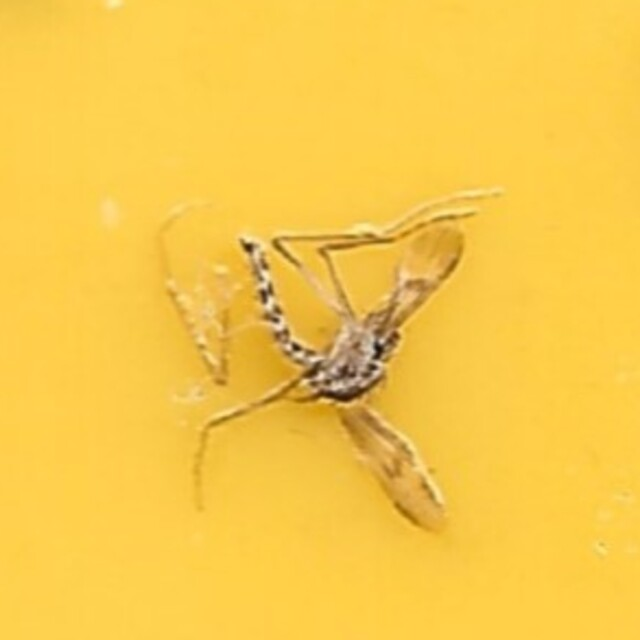Nematocera: (218, 219, 422, 421)
